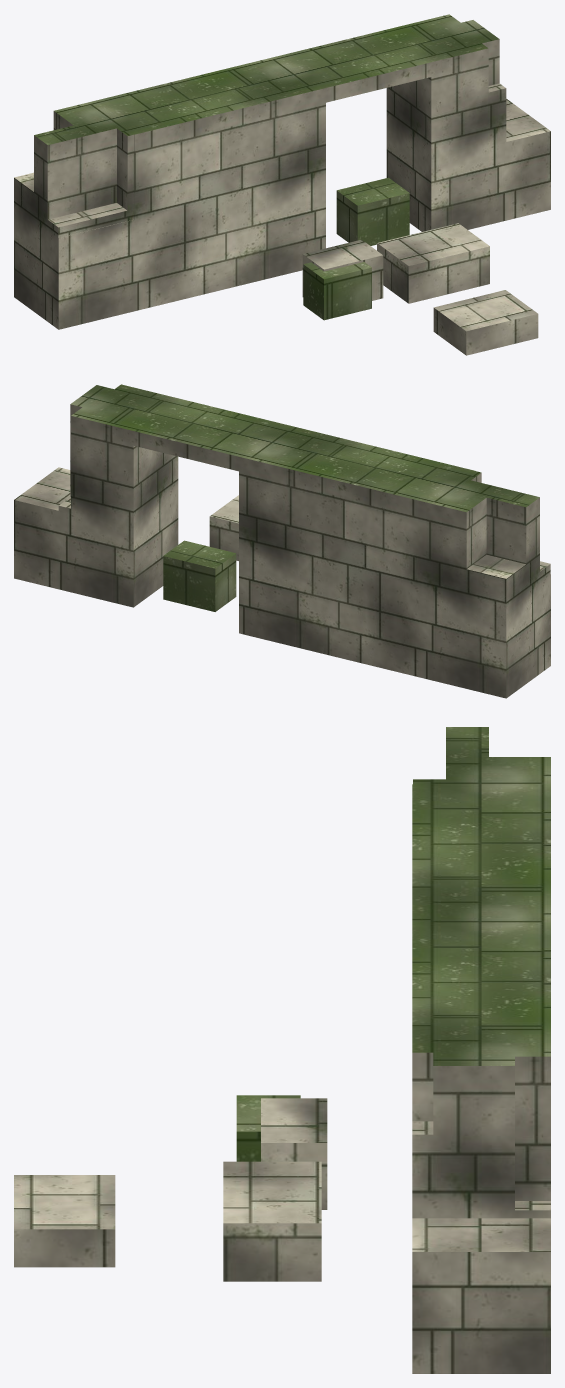
The model's file is ruin-wall-short.ruins-v1.lod0.glb.
3 views of the same model, one above another, from view 1: azimuth 30°, elevation 25°; view 2: azimuth 150°, elevation 25°; view 3: azimuth 270°, elevation 25° (orthographic). The views are drawn at different scales.
Parts seen in each view (by area): view 1: ruin-wall-short; view 2: ruin-wall-short; view 3: ruin-wall-short.
Boxes of the visible parts, x1,y1,x2,y2 form: ruin-wall-short: (14, 14, 550, 355); ruin-wall-short: (14, 384, 550, 698); ruin-wall-short: (14, 727, 550, 1373).
Size of the model in its own units: 7 by 2.4 by 4.26.
2 materials, 2 textured.
